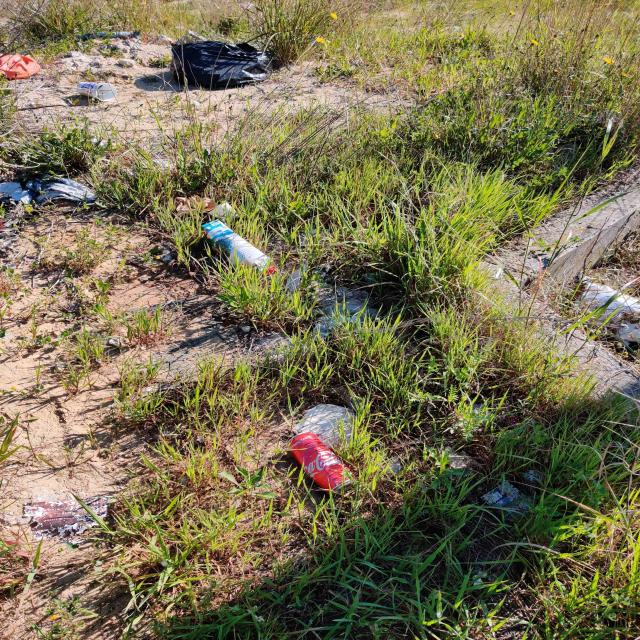litter: (278, 424, 376, 502), (163, 34, 284, 93), (189, 217, 286, 283), (18, 493, 120, 543), (69, 74, 125, 106)
